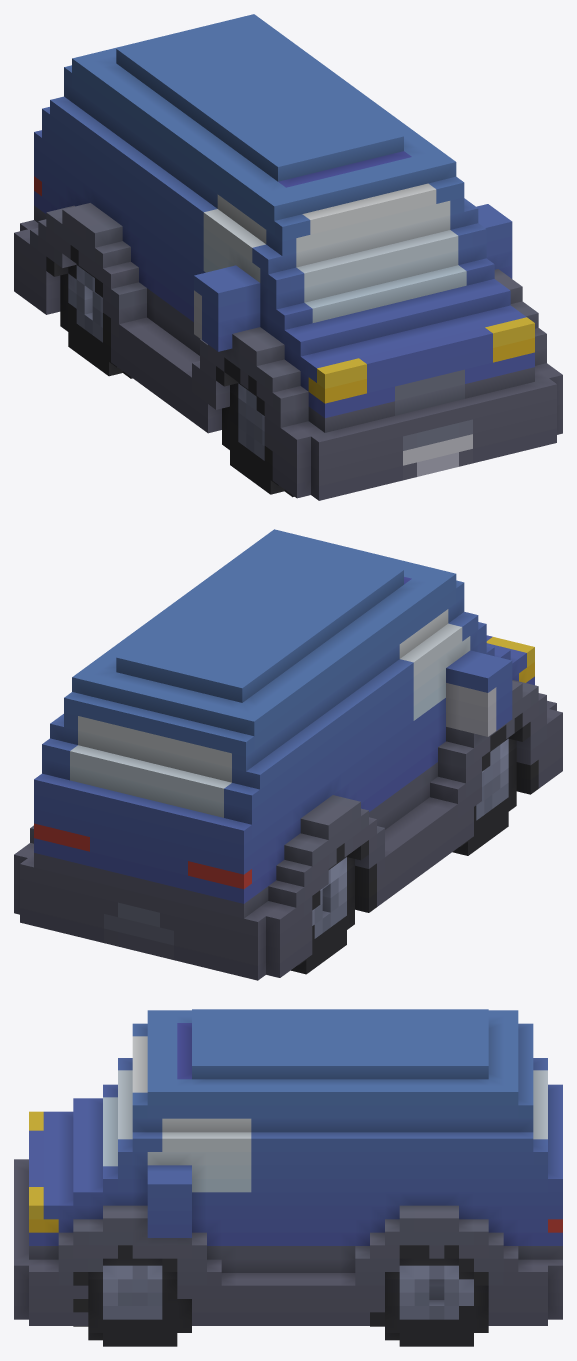
File: van.glb
The picture shows the model from 3 angles, top to bottom: view 1: azimuth 30°, elevation 25°; view 2: azimuth 150°, elevation 25°; view 3: azimuth 270°, elevation 25°; orthographic projection. The views are drawn at different scales.
Visible parts, largest first — view 1: voxels; view 2: voxels; view 3: voxels.
Boxes of the visible parts, left/top/right/bottom form: voxels: left=14, top=14, right=562, bottom=500; voxels: left=14, top=529, right=562, bottom=980; voxels: left=14, top=1009, right=562, bottom=1346.
Size of the model in its own units: 1.58 by 1.42 by 2.77.
